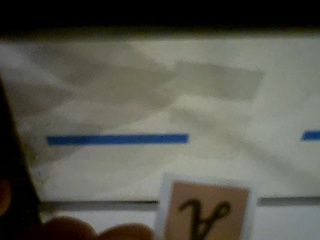A: (161, 178, 250, 240)
